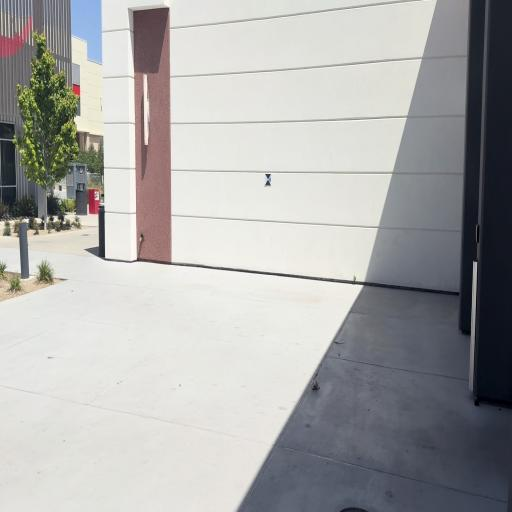target0: (264, 173, 272, 187)
